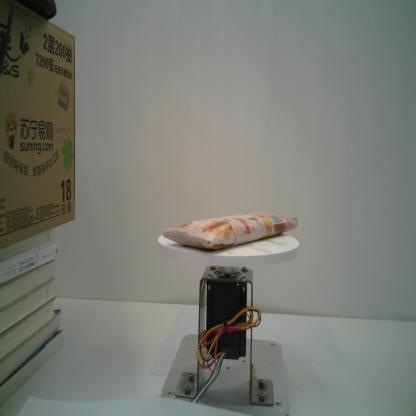Dessert: (162, 211, 298, 250)
